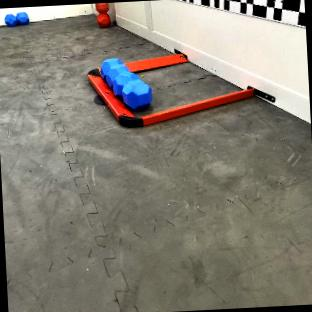V5_BLUE: (99, 58, 152, 109), (5, 12, 29, 27), (16, 12, 29, 24), (4, 14, 16, 26)
V5_RED: (96, 2, 110, 26)
